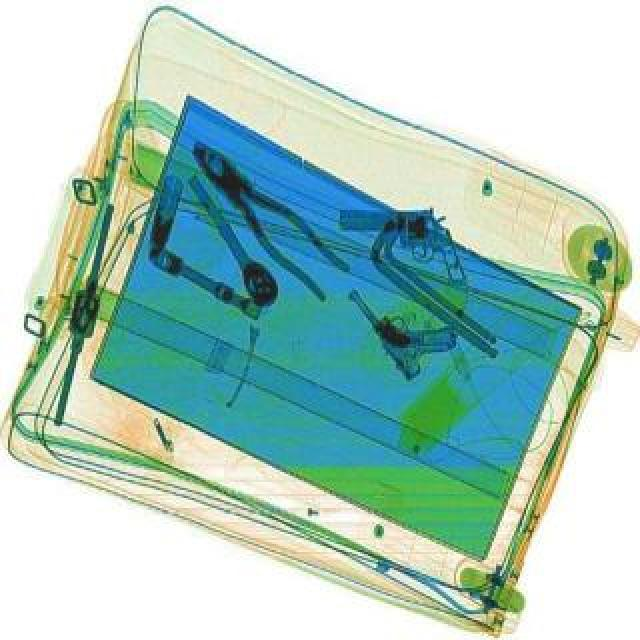gun: (340, 258, 464, 380), (338, 206, 466, 286)
wrench: (170, 122, 358, 304)
